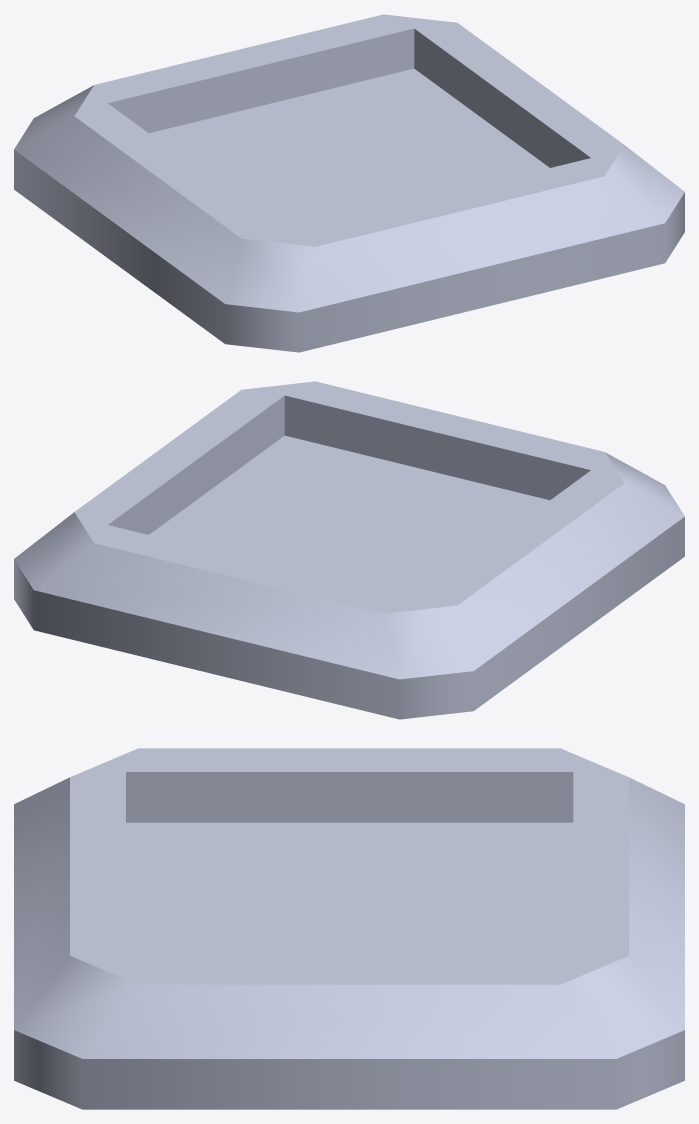
Rendered from buttonSquare-col.glb.
3 views of the same model, one above another, from view 1: azimuth 30°, elevation 25°; view 2: azimuth 150°, elevation 25°; view 3: azimuth 270°, elevation 25° (orthographic). The views are drawn at different scales.
Visible parts, largest first — view 1: buttonSquare-col; view 2: buttonSquare-col; view 3: buttonSquare-col.
Boxes of the visible parts, x1=… form: buttonSquare-col: x1=14, y1=14, x2=684, y2=352; buttonSquare-col: x1=14, y1=381, x2=684, y2=719; buttonSquare-col: x1=14, y1=748, x2=684, y2=1109.
Bounding box in the file's own units: 0.6 × 0.1 × 0.6.
